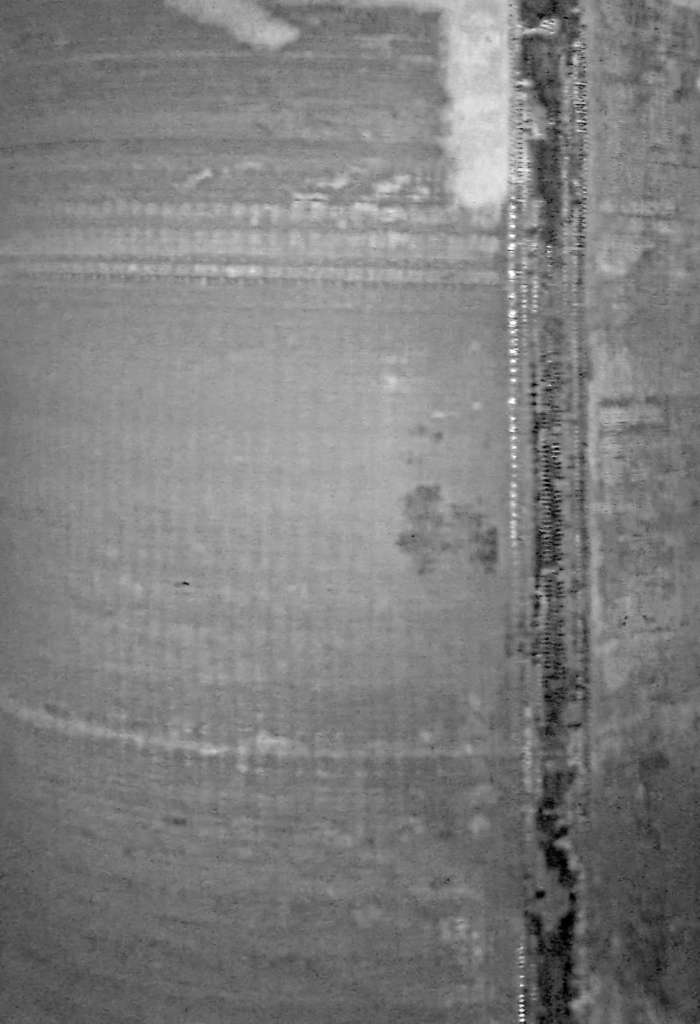splice: (487, 1, 604, 1024)
